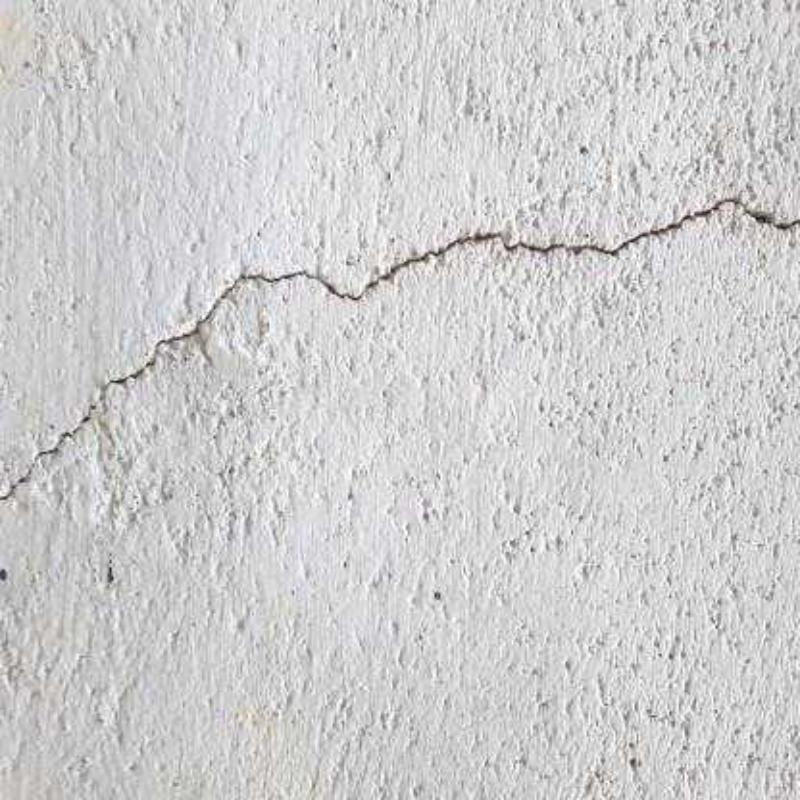crack: (1, 199, 799, 501)
